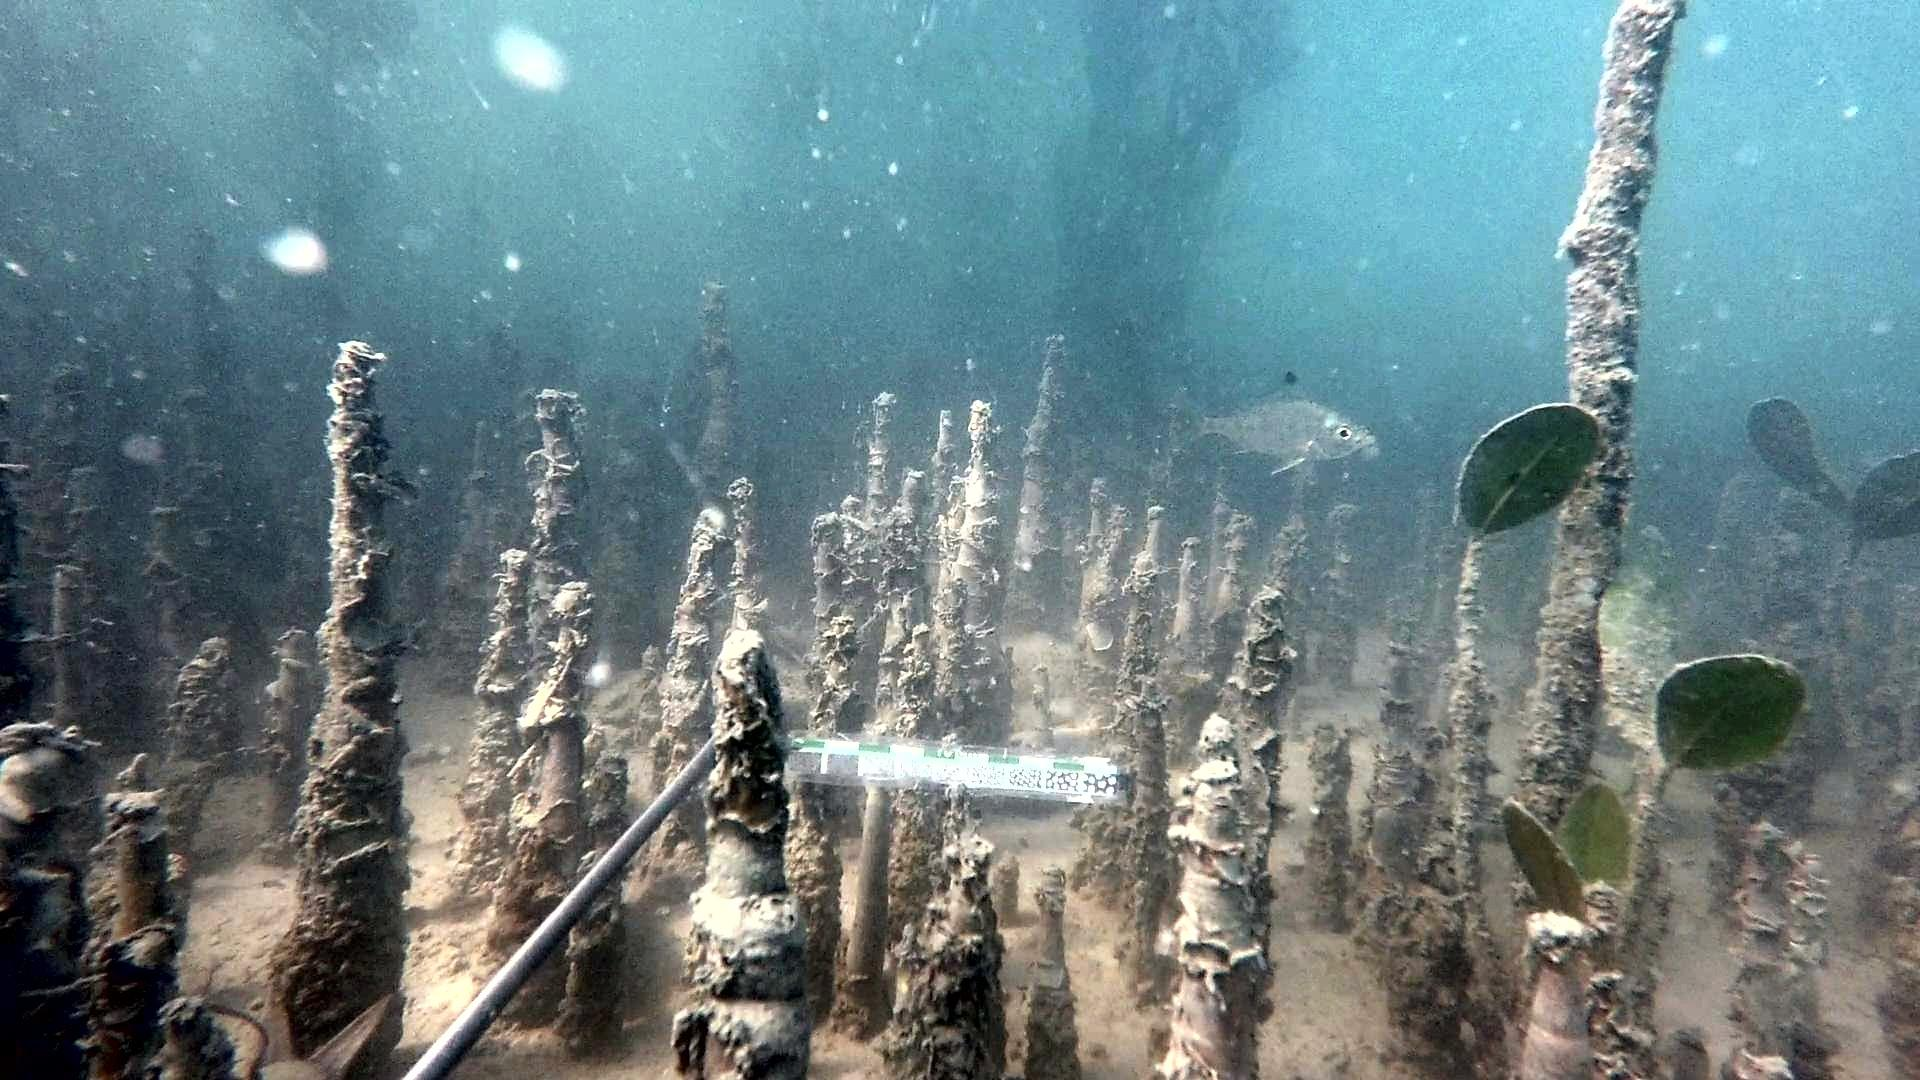gerres: (1167, 369, 1375, 476)
